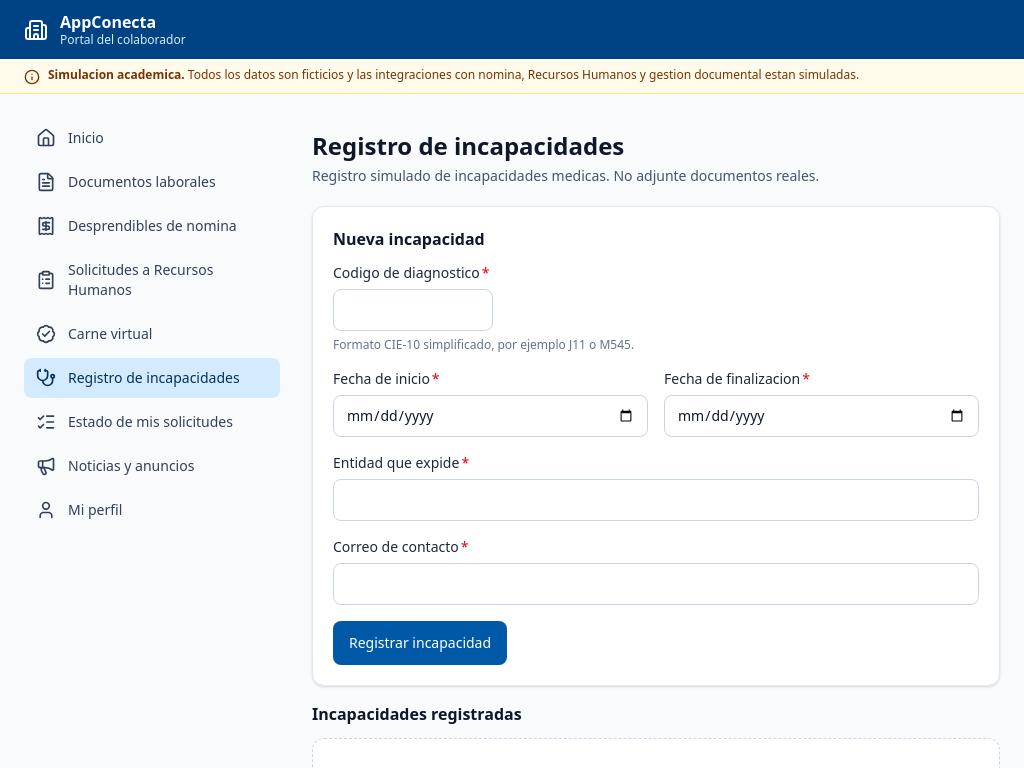
Test: Registro de incapacidades › registra la incapacidad y la muestra en la lista
Type "J11" into the field labelled "Codigo de diagnostico*".
click(413, 310); type("J11")  # box 333,289 -> 493,331
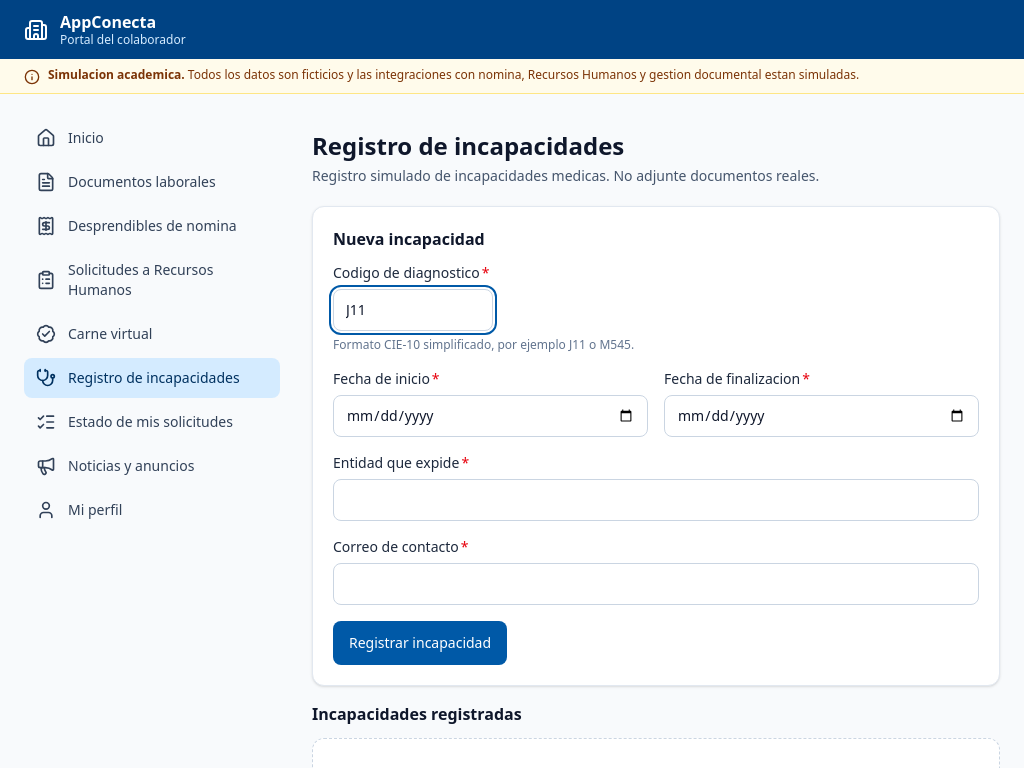
Type "2026-08-10" into the date field labelled "Fecha de inicio*".
click(490, 416); type("2026-08-10")  # box 333,395 -> 648,437
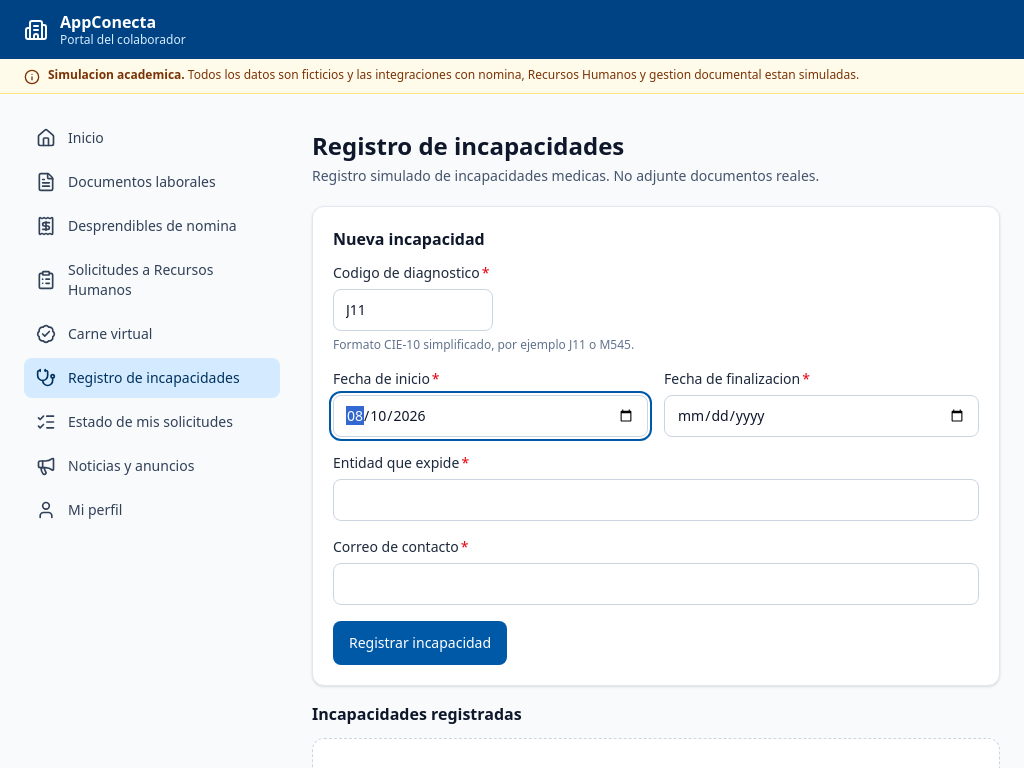
Type "2026-08-13" into the date field labelled "Fecha de finalizacion*".
click(822, 416); type("2026-08-13")  # box 664,395 -> 979,437
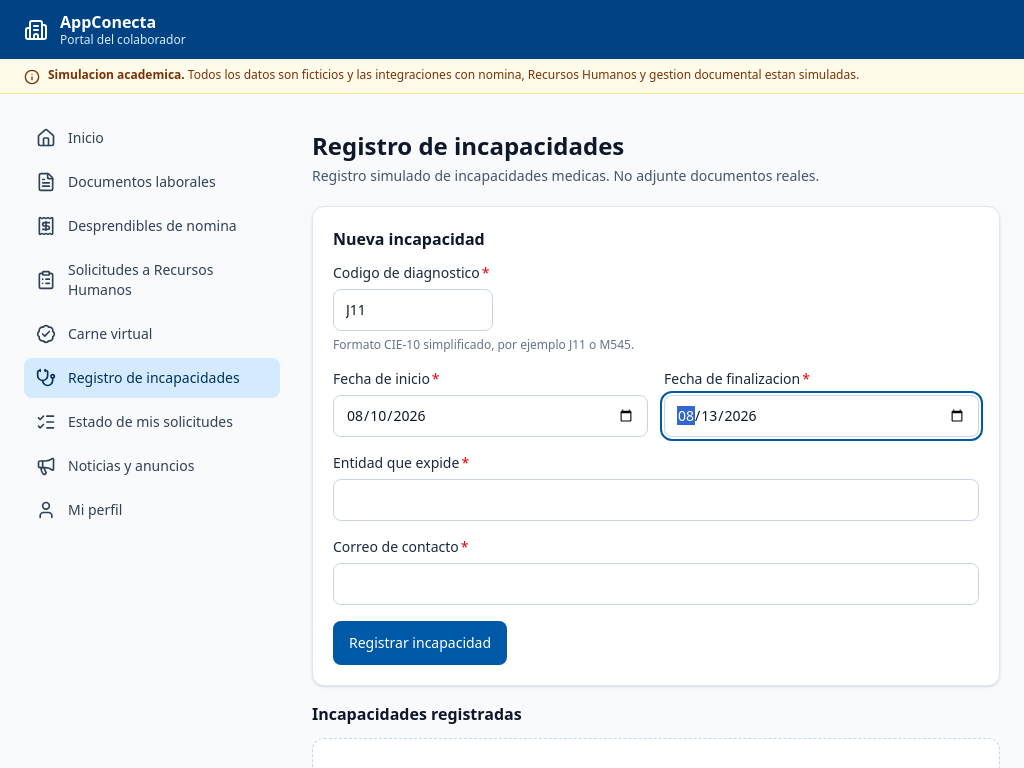
Type "IPS Ficticia del Norte" into the field labelled "Entidad que expide*".
click(656, 500); type("IPS Ficticia del Norte")  # box 333,479 -> 979,521
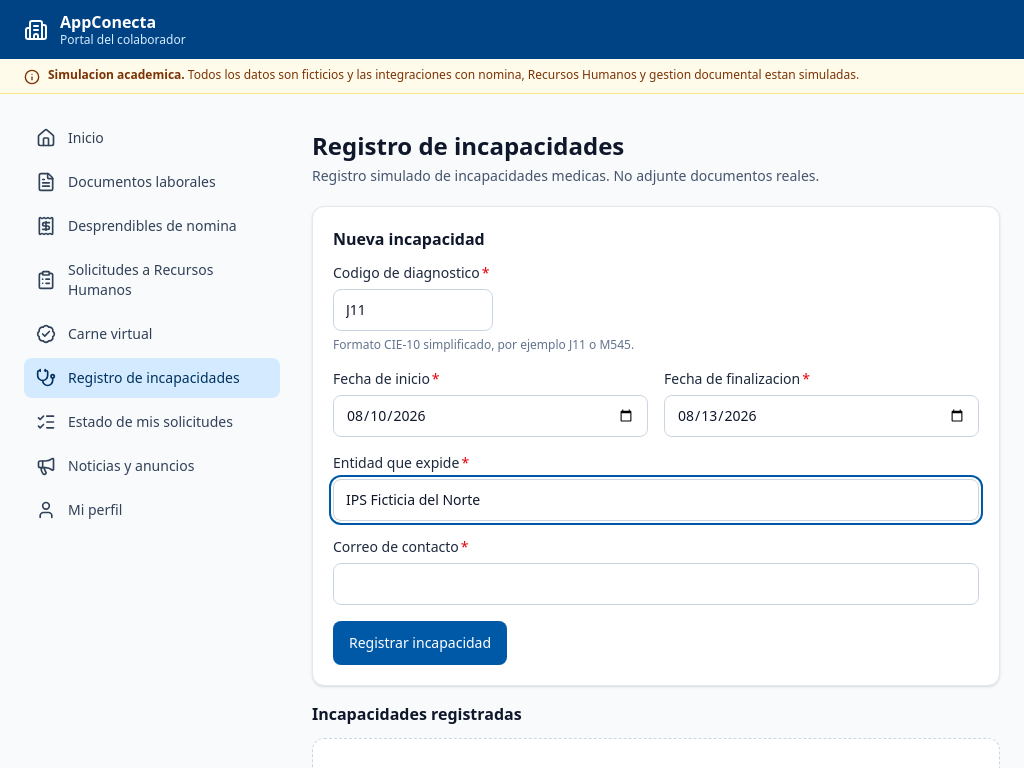
Type "laura.restrepo@appconecta-demo.co" into the field labelled "Correo de contacto*".
click(656, 584); type("laura.restrepo@appconecta-demo.co")  # box 333,563 -> 979,605
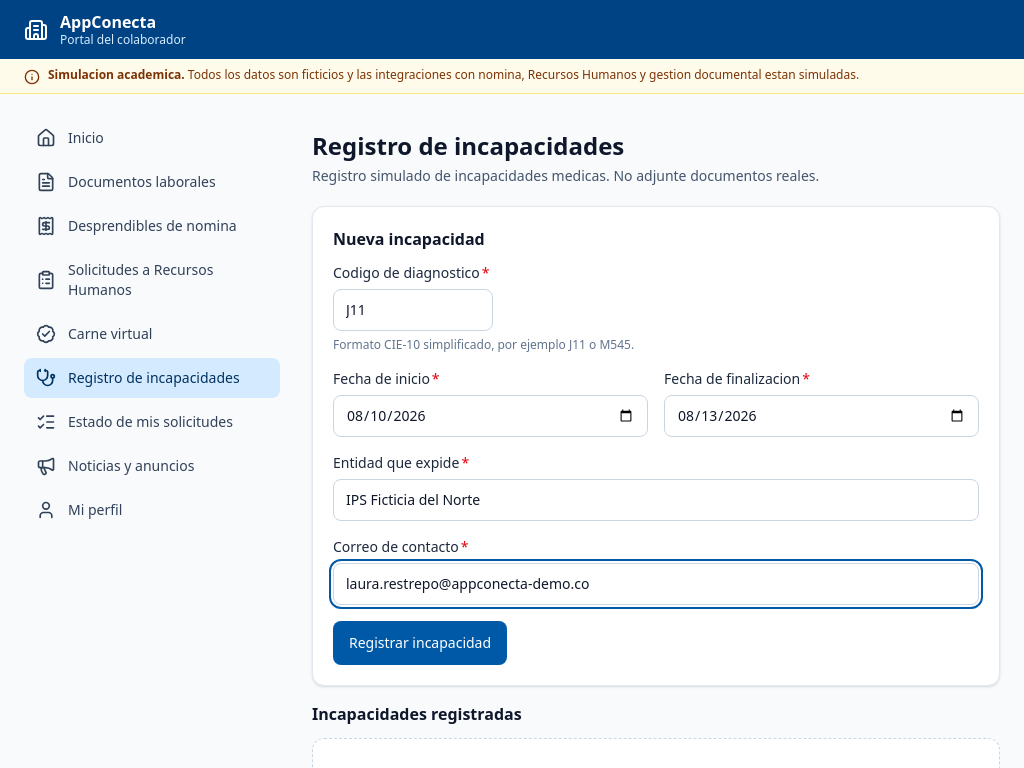
Click the button "Registrar incapacidad".
click(420, 643)  # box 333,621 -> 507,665
(page scrolled)
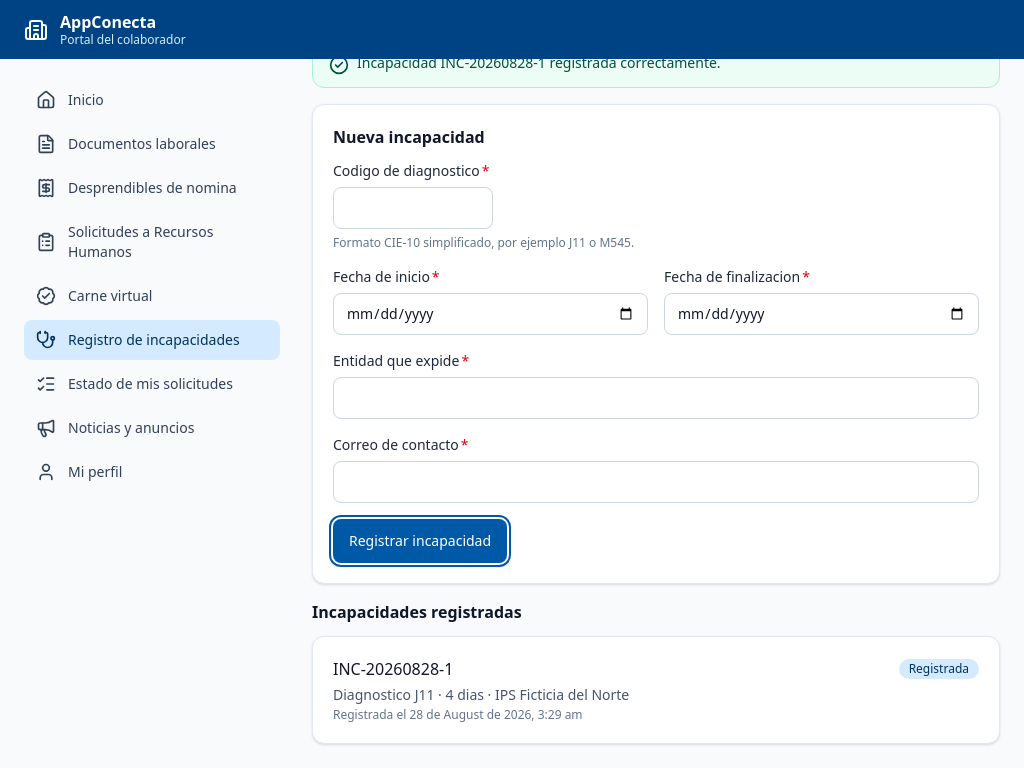
Check: the message shows "registrada correctamente", box 357,53 -> 721,72
Check: the text "Diagnostico J11 · 4 dias · IPS Ficticia del Norte" is shown, box 333,685 -> 629,704
